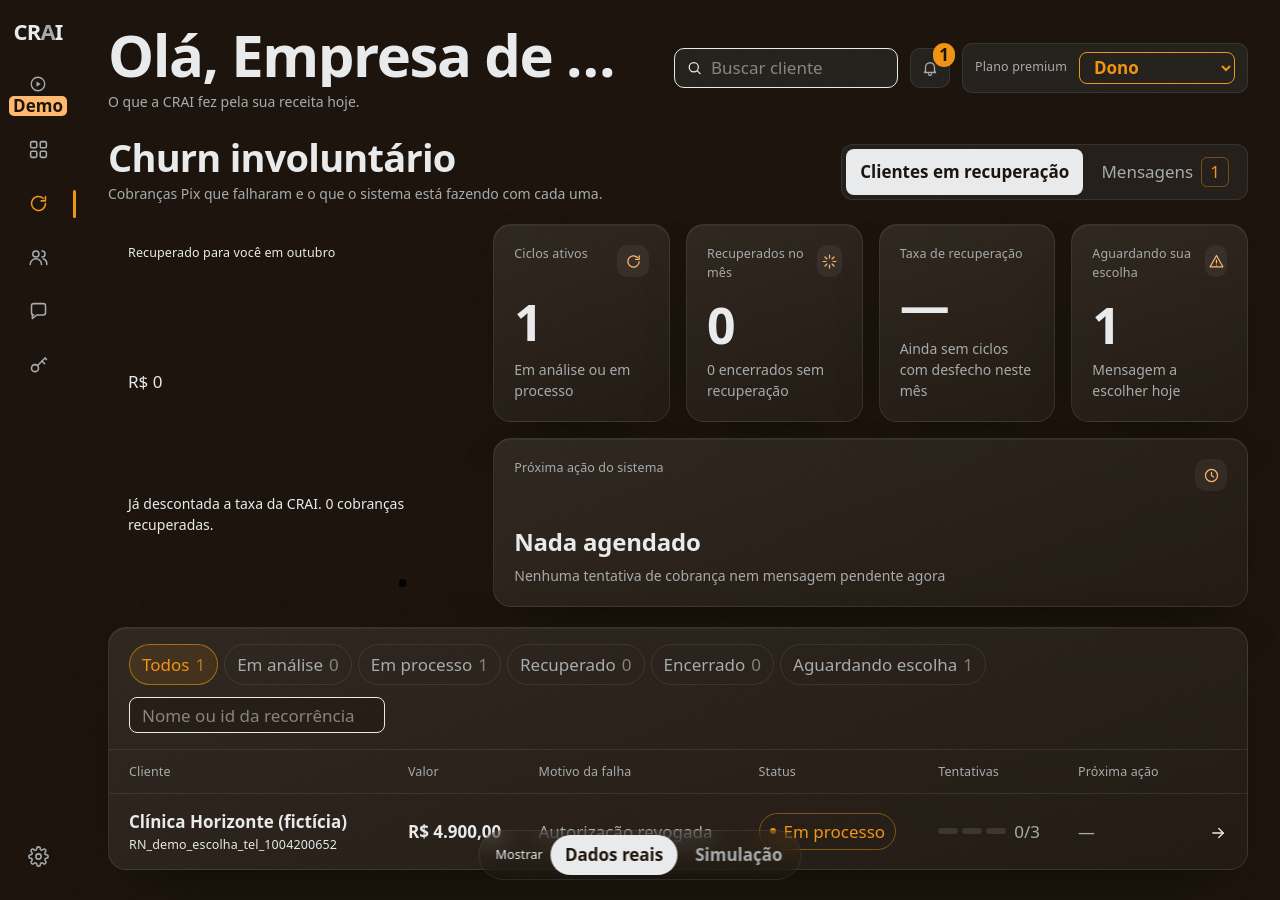
Scenario: o sino › com pendência, leva à aba Mensagens e rola a página para o topo, mesmo já estando no Involuntário
expect the text "1" next to "Plano premium" is shown: met, box [939, 43, 949, 66]
What coordinates should you click on to do the following:
click the button named "esperando a sua escolha de mensagem"
I would click on:
 (930, 68)
Its box is [910, 48, 950, 88].
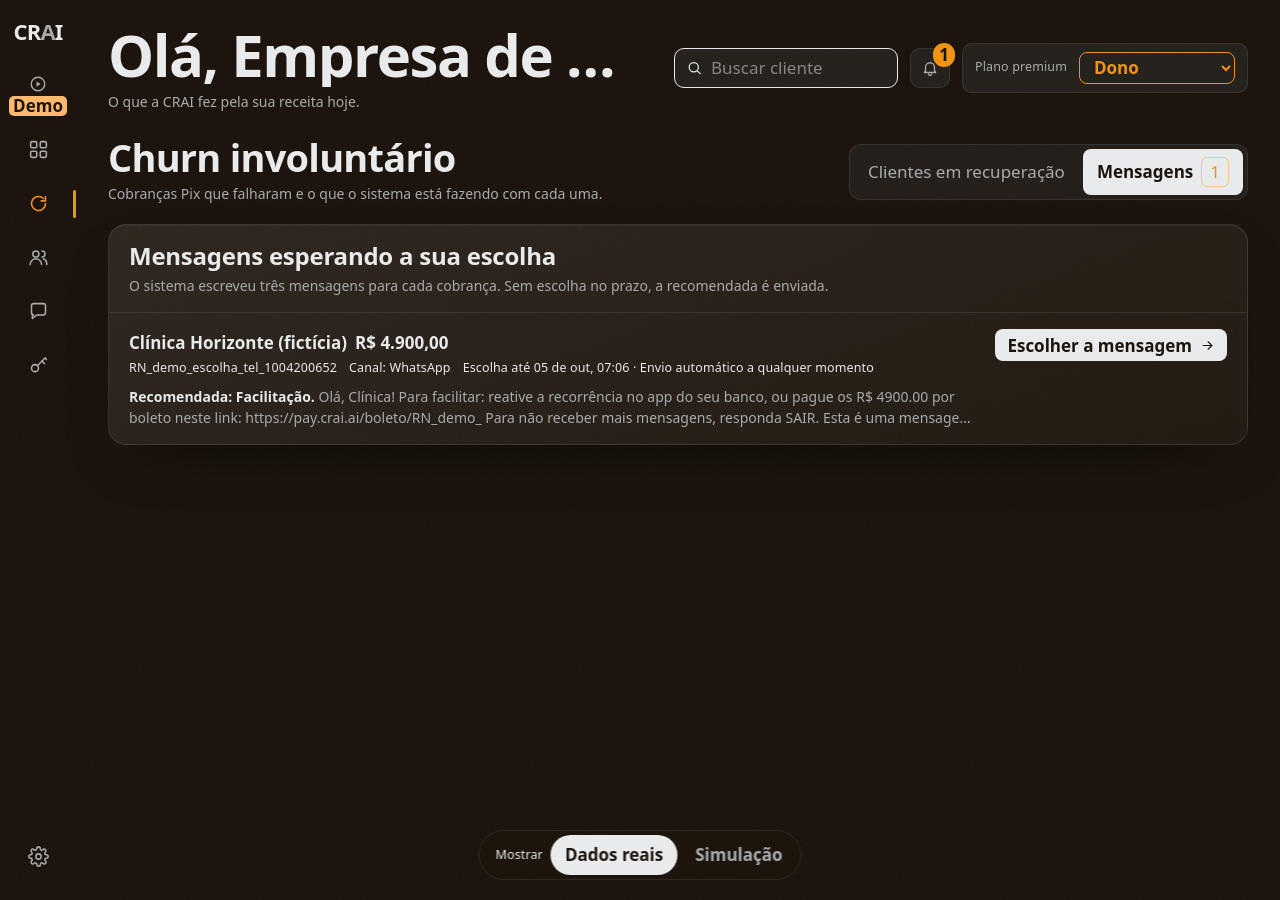
expect the heading "Mensagens esperando a sua escolha" is shown: met, box [129, 239, 556, 272]
